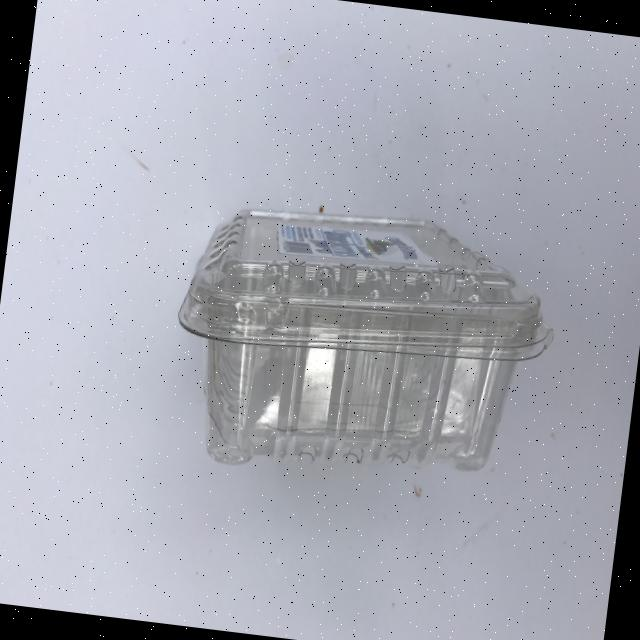plastic: (160, 189, 565, 502)
